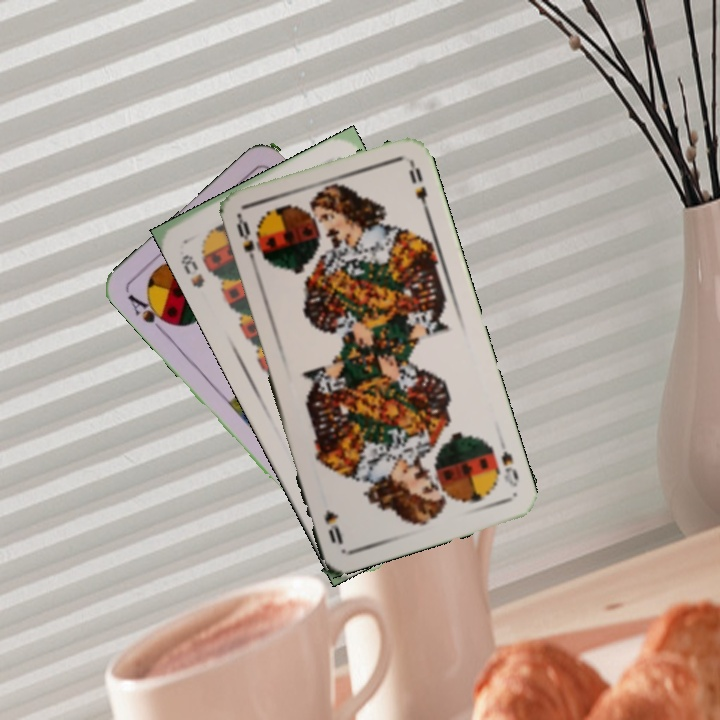S8: (176, 250, 208, 291)
SA: (123, 290, 176, 337)
SO: (232, 213, 260, 271), (497, 446, 521, 490)
